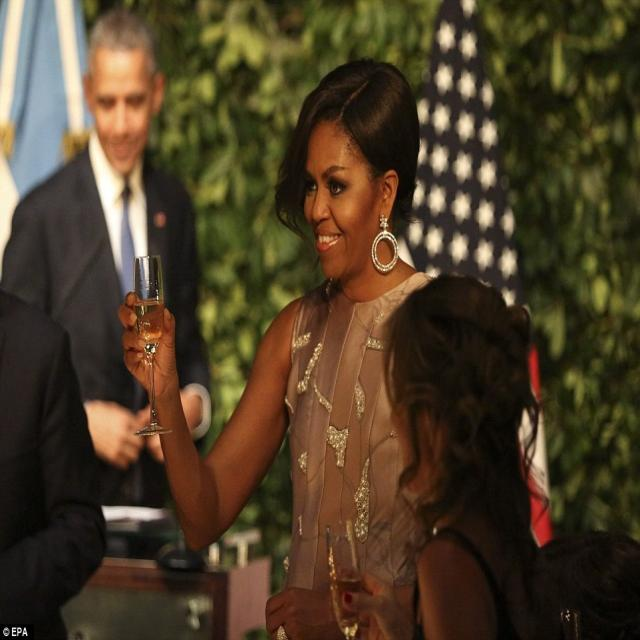body: (116, 53, 438, 640), (0, 5, 216, 520), (336, 270, 542, 639), (0, 288, 109, 639), (500, 524, 640, 639)
